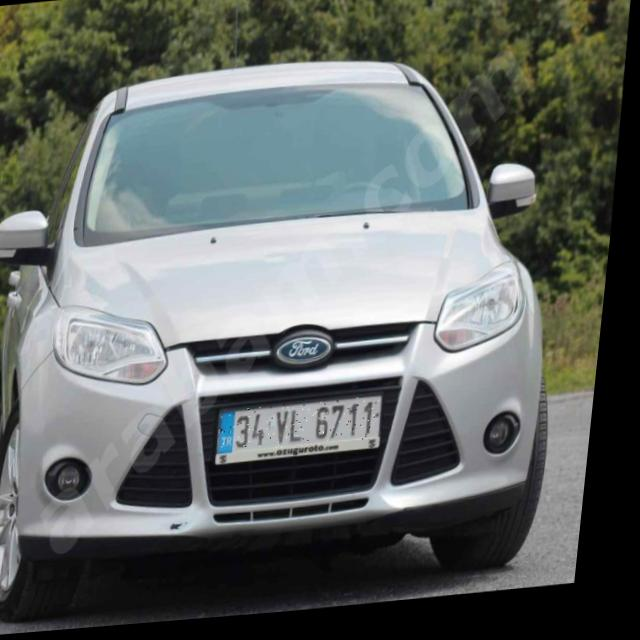license_plate: (226, 402, 393, 458)
